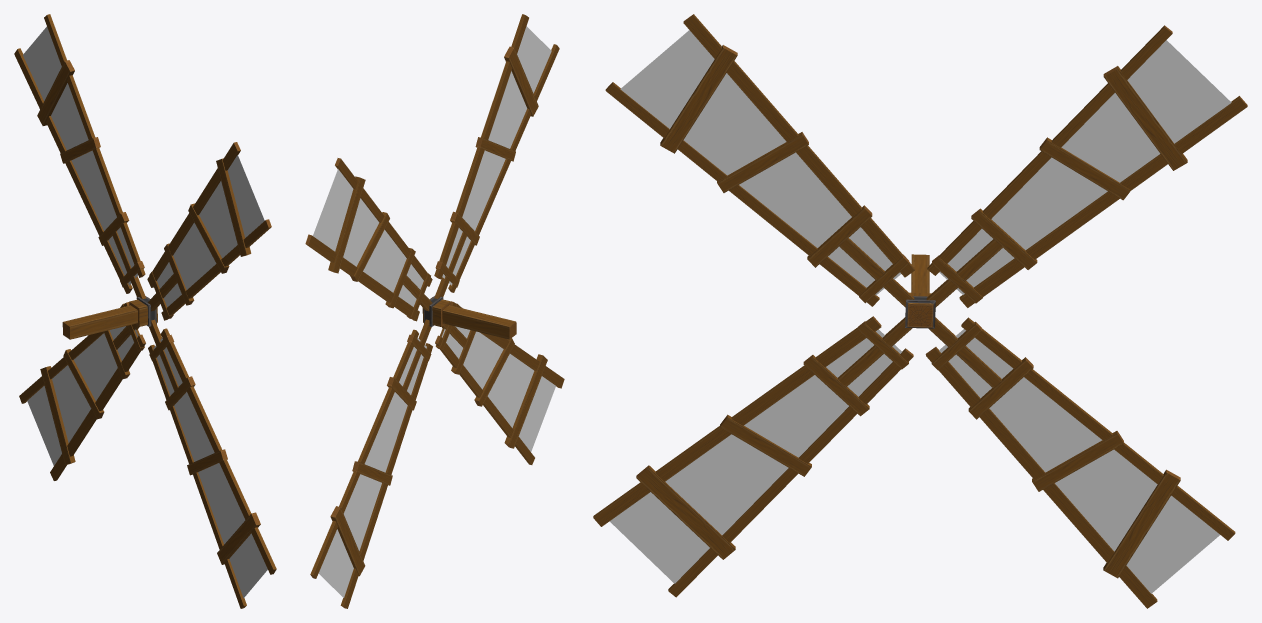
Rendered from SM_Windmill_Sail.fbx.
3 views of the same model, side by side, from view 1: azimuth 30°, elevation 25°; view 2: azimuth 150°, elevation 25°; view 3: azimuth 270°, elevation 25° (orthographic). The views are drawn at different scales.
Visible parts, largest first — view 1: SM_Windmill_Sail; view 2: SM_Windmill_Sail; view 3: SM_Windmill_Sail.
Boxes of the visible parts, bbox=[...] form: SM_Windmill_Sail: bbox=[14, 14, 276, 608]; SM_Windmill_Sail: bbox=[305, 14, 564, 608]; SM_Windmill_Sail: bbox=[593, 14, 1247, 608].
Bounding box in the file's own units: 10.29 × 53.54 × 53.54.
